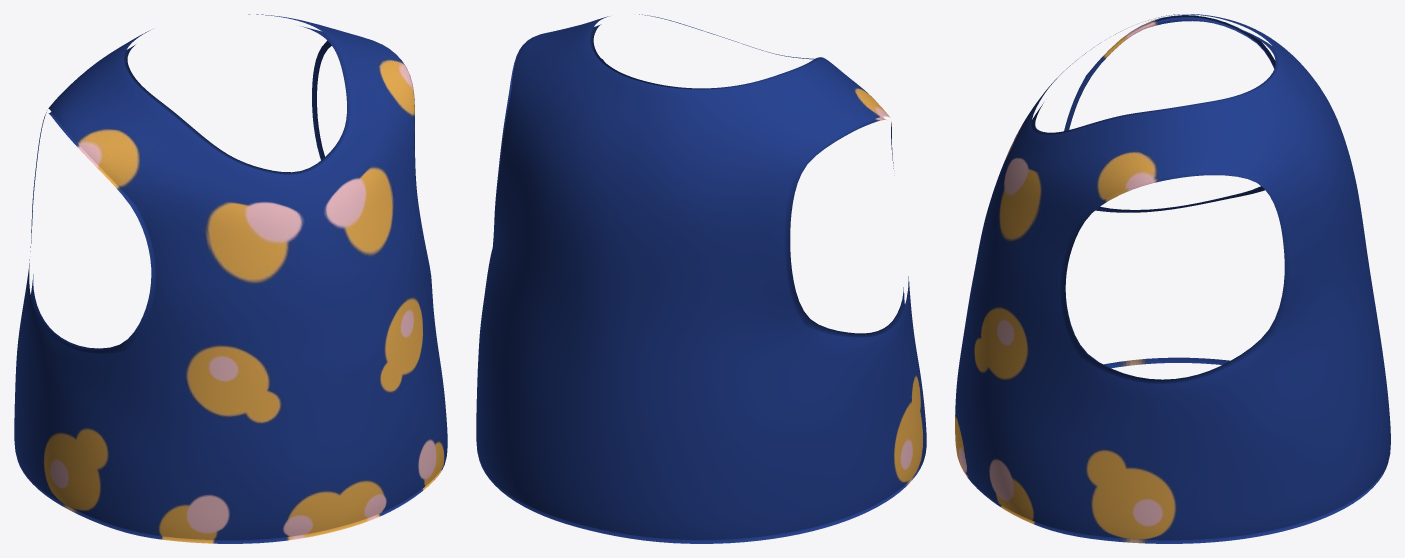
File: Polkadot.gltf
The picture shows the model from 3 angles, left to right: view 1: azimuth 30°, elevation 25°; view 2: azimuth 150°, elevation 25°; view 3: azimuth 270°, elevation 25°; orthographic projection. The views are drawn at different scales.
Visible parts, largest first — view 1: 身体1-衣服; view 2: 身体1-衣服; view 3: 身体1-衣服.
Boxes of the visible parts, <box> form: 身体1-衣服: <box>14,14,447,543</box>; 身体1-衣服: <box>476,14,926,543</box>; 身体1-衣服: <box>955,14,1390,543</box>.
Bounding box in the file's own units: 5.92 × 5.99 × 5.96.
Materials: 1 (1 with a texture image).
